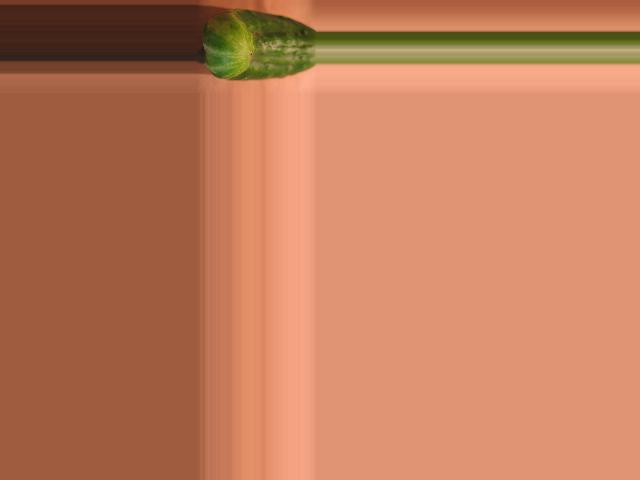cucumber: (203, 9, 316, 81)
